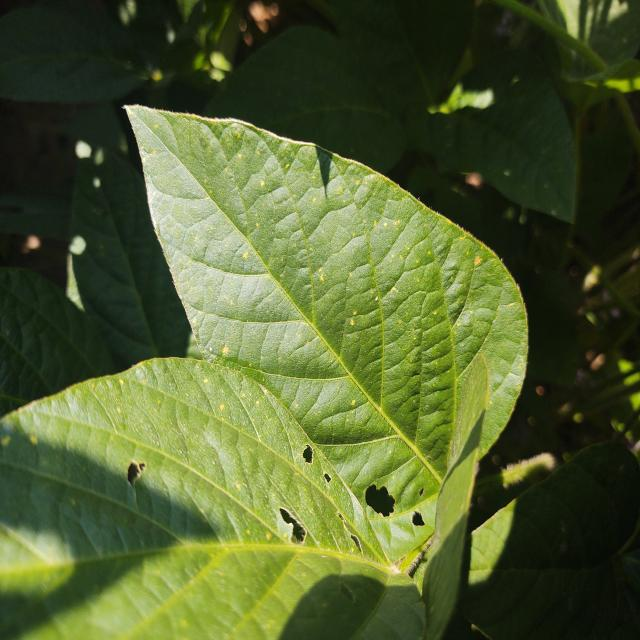Soybean: (0, 105, 640, 640)
downey_mildew: (140, 155, 213, 362), (322, 192, 403, 309), (112, 459, 219, 543), (229, 161, 308, 266), (375, 240, 446, 348), (96, 377, 172, 447), (225, 374, 290, 443), (516, 211, 571, 277), (208, 353, 297, 389), (237, 417, 271, 500), (287, 434, 335, 489), (310, 143, 341, 206), (402, 535, 434, 579), (170, 410, 192, 472), (75, 139, 106, 182), (278, 506, 308, 545), (339, 510, 363, 555), (126, 458, 147, 507), (410, 492, 426, 528), (390, 552, 412, 575), (339, 581, 355, 603), (338, 514, 347, 529), (477, 496, 486, 508), (1, 436, 10, 446), (29, 435, 38, 444), (180, 619, 188, 628), (419, 487, 425, 498), (235, 482, 241, 490), (459, 235, 465, 241), (283, 532, 288, 539), (256, 149, 261, 156)
